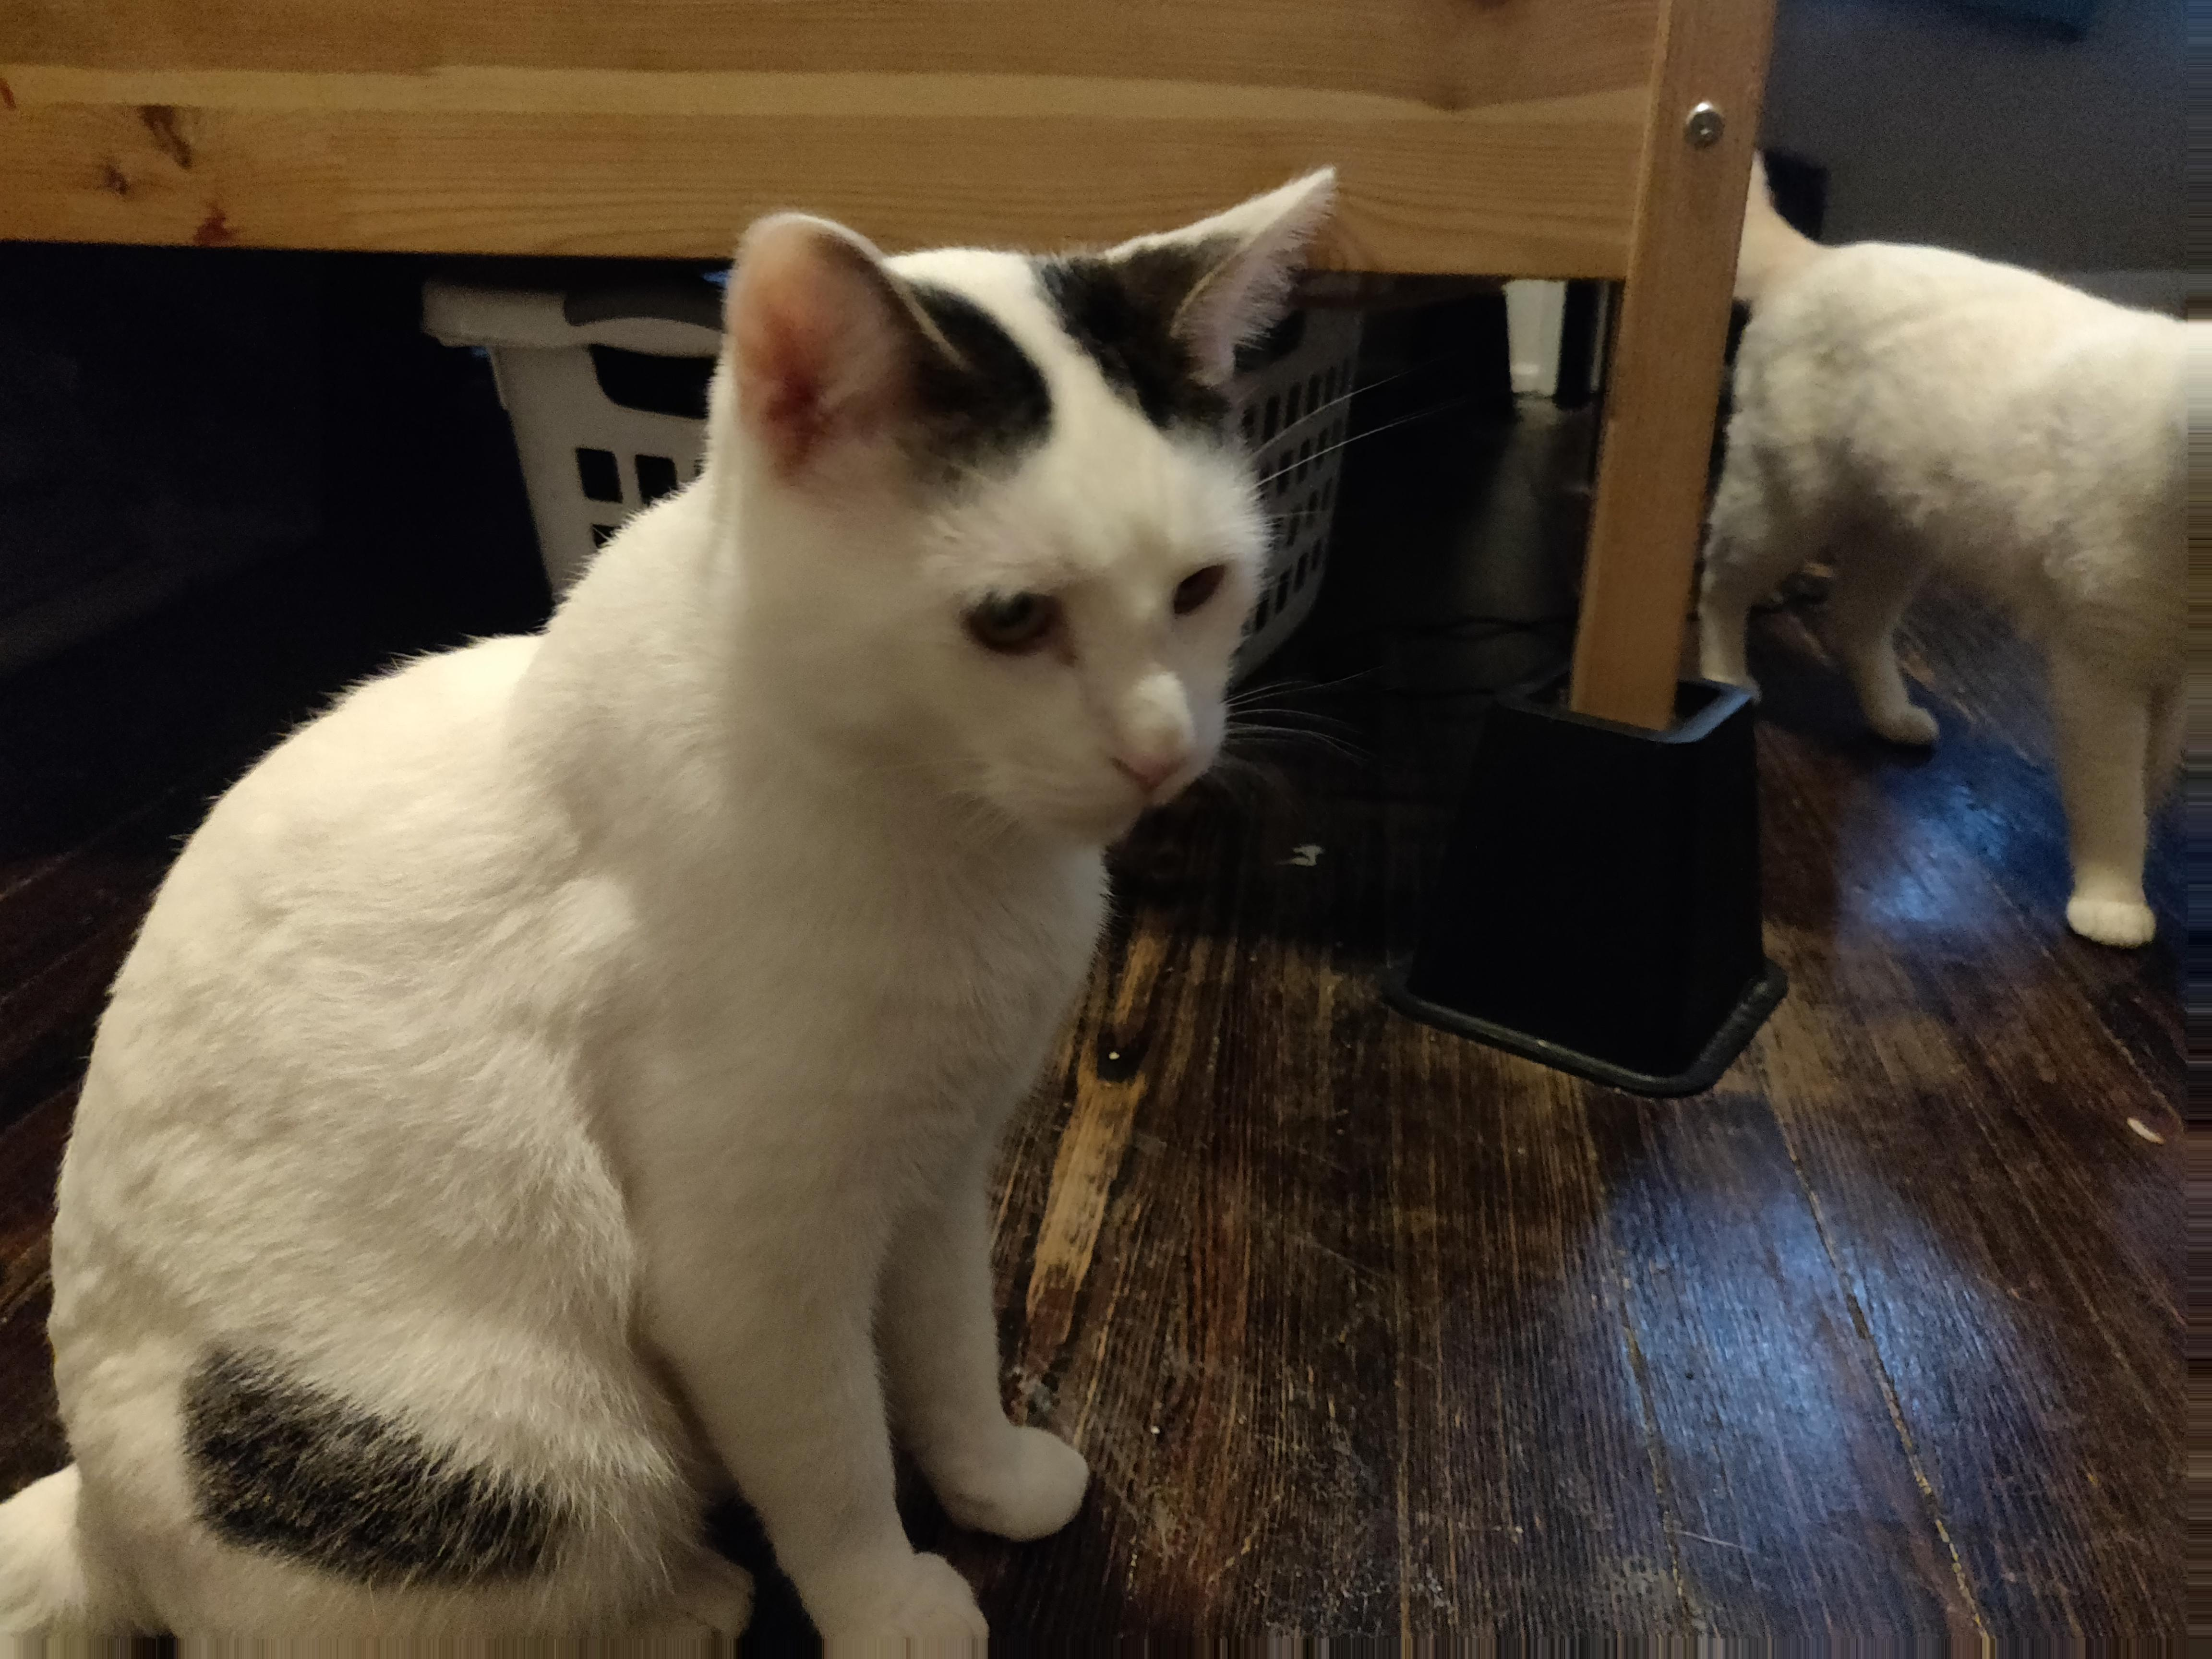cat: (12, 164, 1326, 1659), (1732, 138, 2212, 945)
